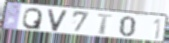0: (119, 16, 138, 38)
1: (153, 19, 162, 40)
7: (71, 10, 91, 35)
Q: (21, 7, 43, 31)
T: (95, 13, 115, 36)
V: (47, 9, 69, 33)
